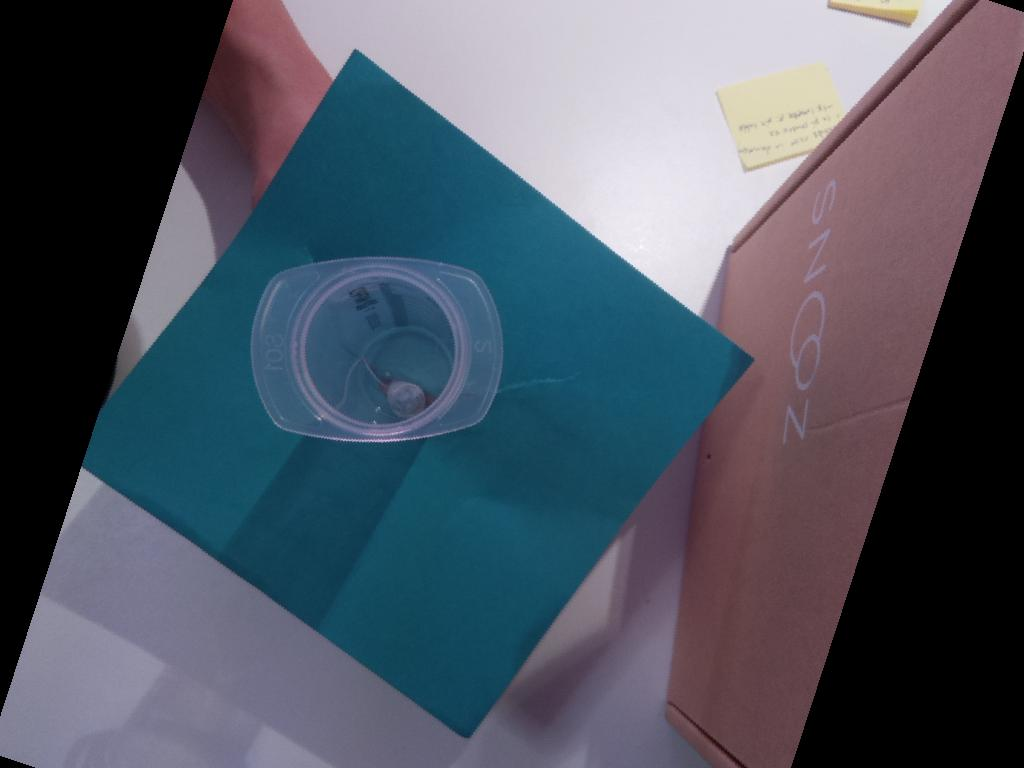clean: (249, 255, 506, 446)
